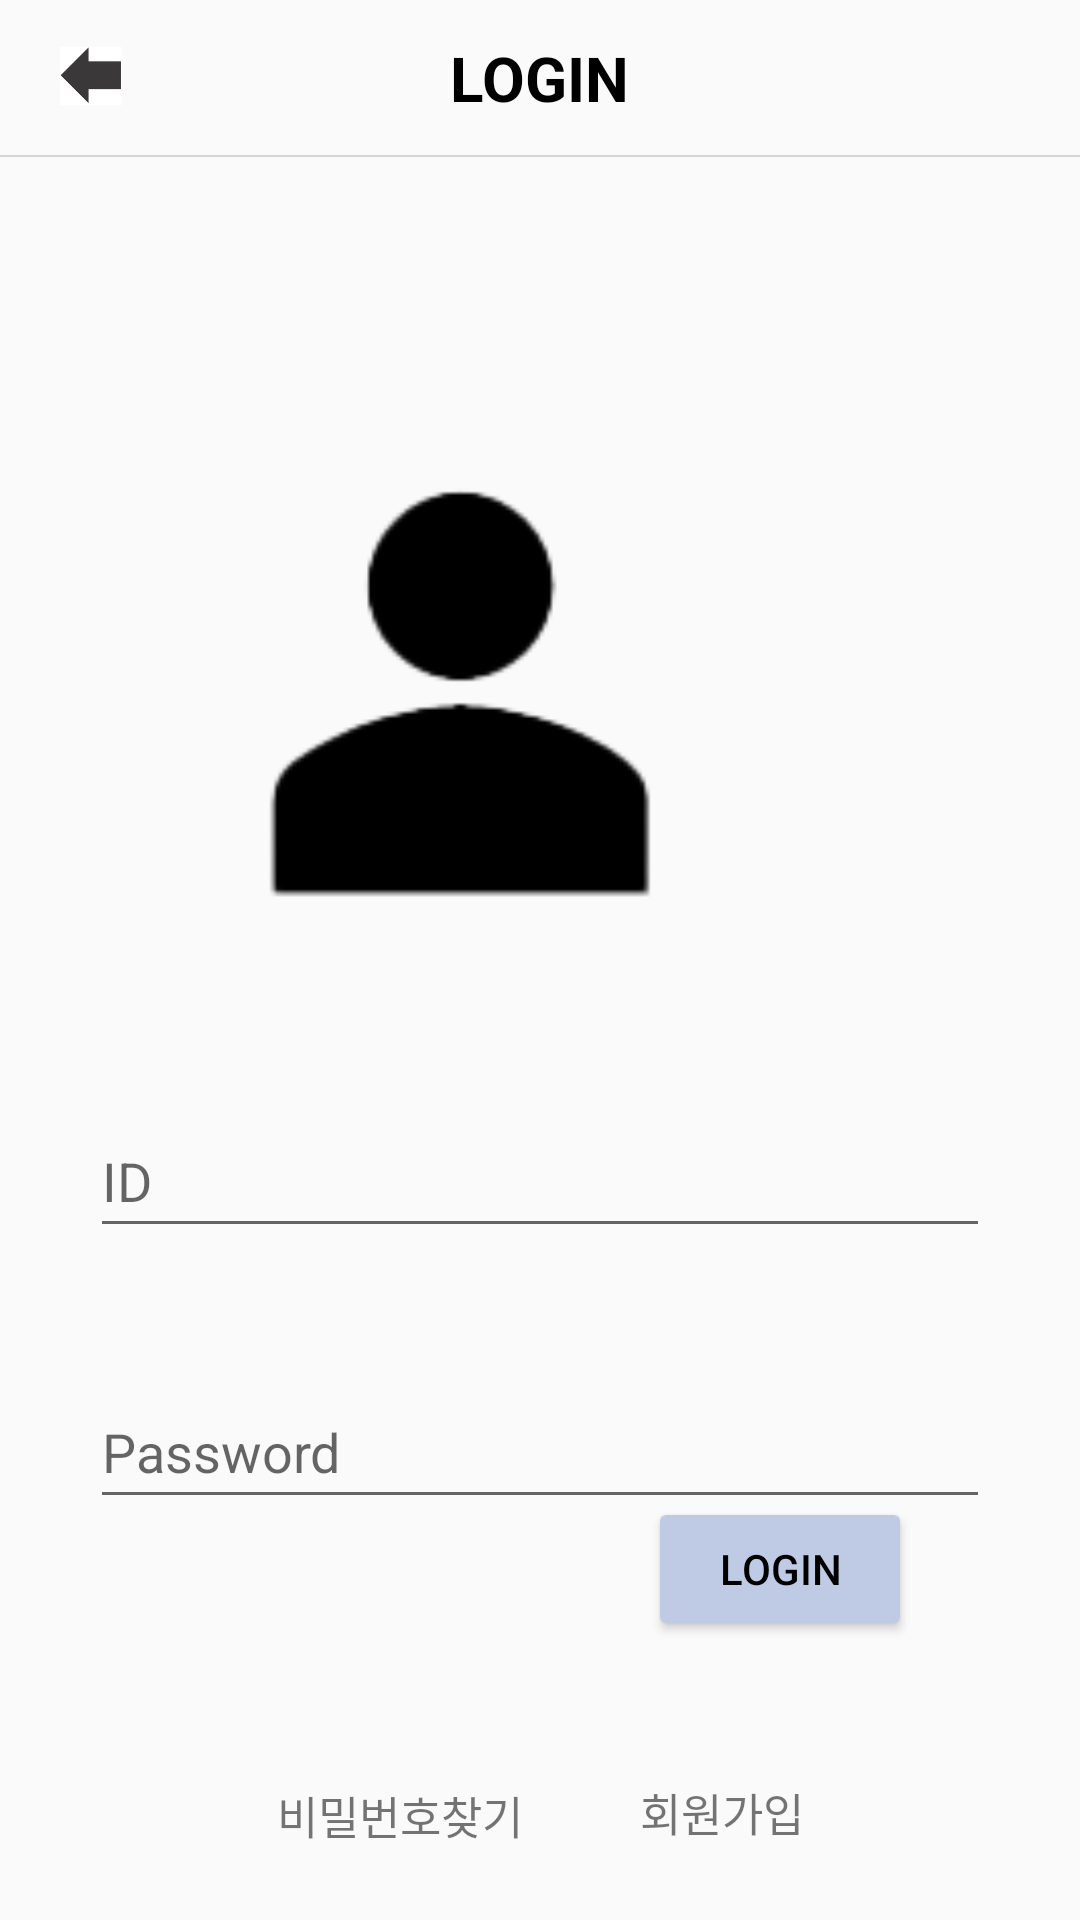

Where to tap for icons on this 1080 × 1920 app screen, as (x,y):
back: (91,75)
